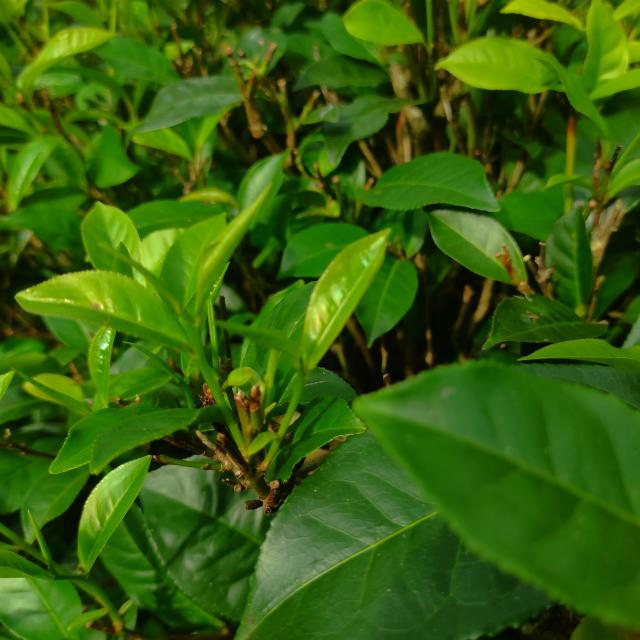unopened_leaf: (77, 230, 199, 348), (202, 305, 309, 371), (6, 359, 97, 416), (119, 329, 193, 388), (25, 502, 64, 572)
